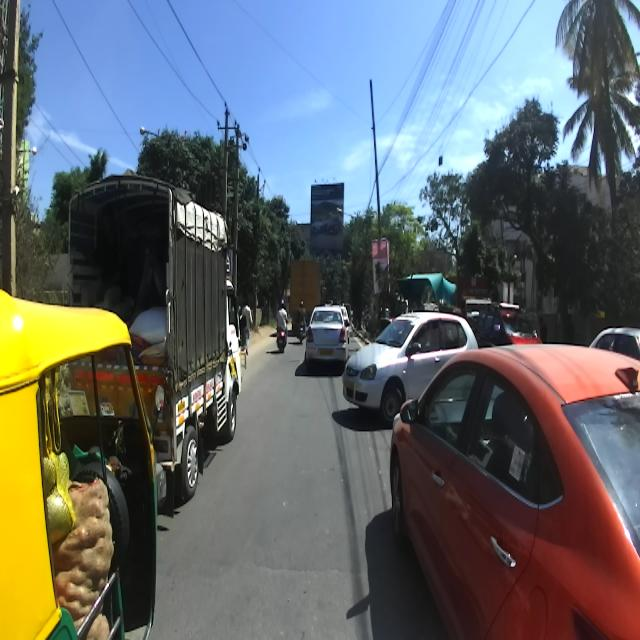auto ahead at: (0, 278, 168, 640)
car ahead at: (349, 303, 478, 424), (304, 299, 346, 381)
electric pole ahead at: (212, 86, 254, 220)
